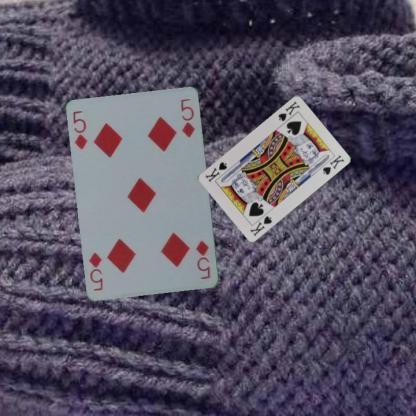5d: (70, 108, 89, 152), (194, 237, 212, 281)
Ks: (276, 98, 302, 122), (248, 214, 274, 236)
